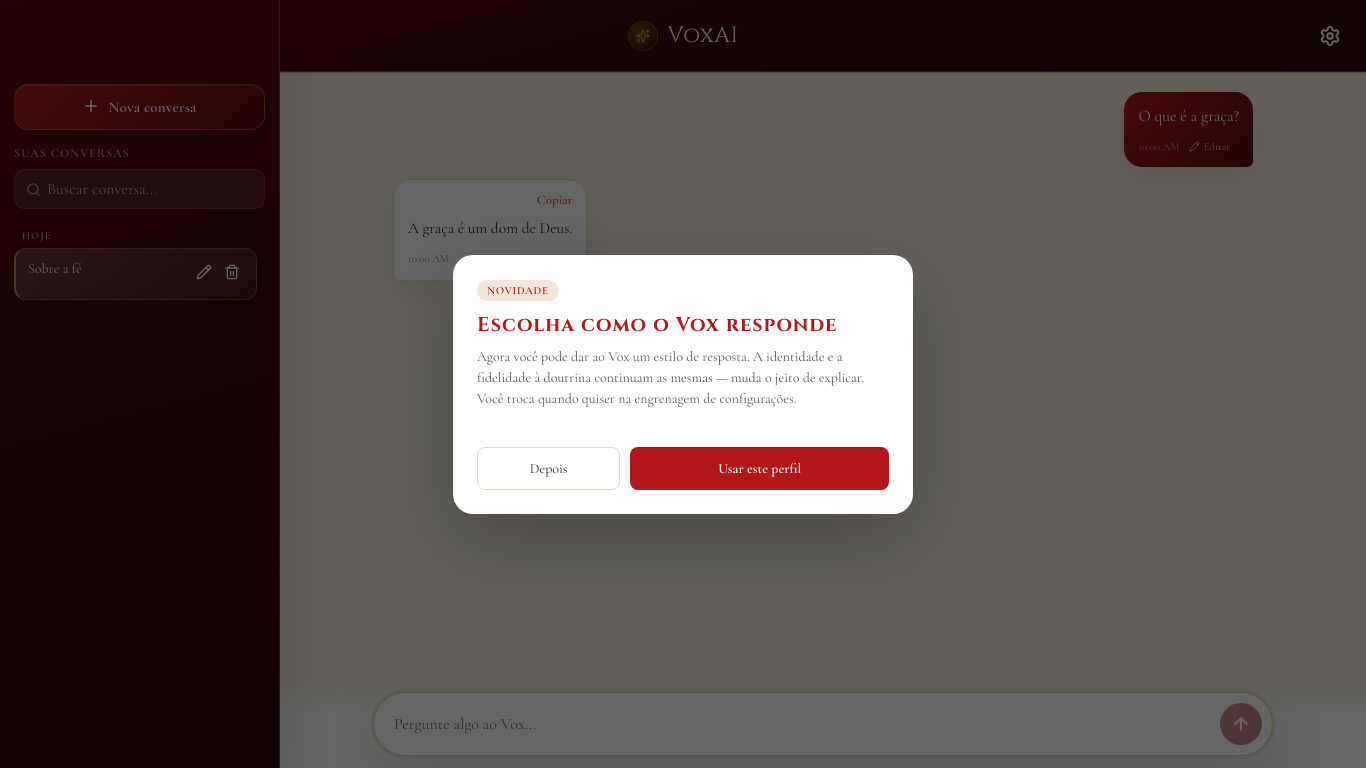
Scenario: Vox › perfis de resposta › 'Depois' dismisses the intro via the API without choosing a profile
Click the button "Depois" at x=549, y=468, box [477, 446, 620, 490]
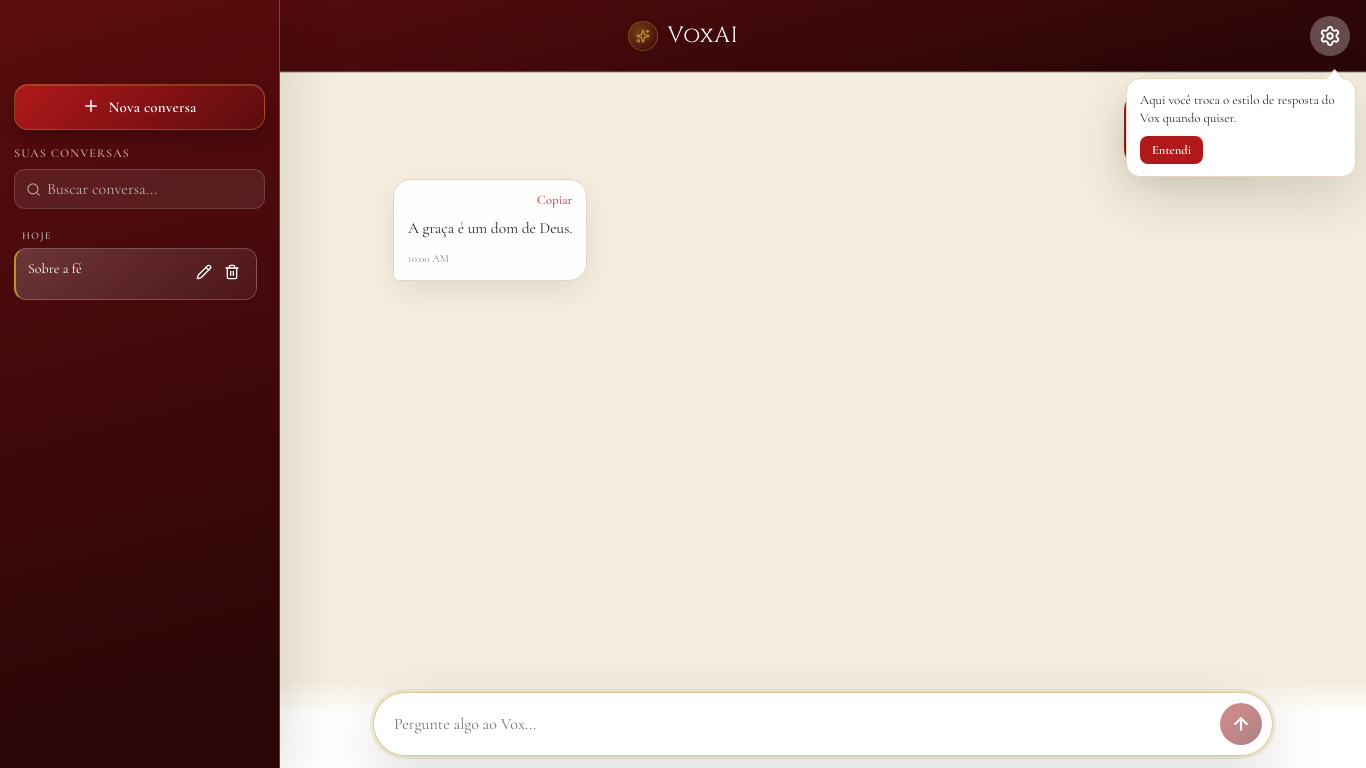
Result: the heading "Escolha como o Vox responde" is gone
